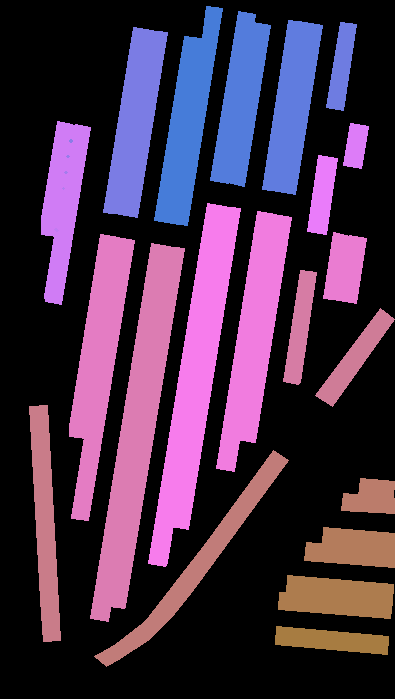parkingspot: (94, 450, 288, 666), (90, 243, 168, 621), (148, 203, 224, 566), (109, 246, 184, 608), (171, 206, 240, 529), (71, 237, 134, 520), (216, 211, 276, 471), (237, 214, 291, 442), (171, 6, 222, 225), (69, 234, 118, 438), (103, 27, 152, 214), (120, 30, 167, 217), (154, 36, 201, 223), (44, 124, 90, 304), (315, 308, 394, 406), (210, 11, 255, 183), (277, 22, 322, 194), (262, 20, 306, 191), (29, 405, 60, 641), (227, 22, 270, 186), (283, 270, 316, 384), (41, 121, 73, 236), (275, 626, 388, 654), (278, 592, 392, 618), (286, 575, 393, 602), (326, 22, 356, 110), (307, 155, 337, 234), (304, 542, 395, 567), (338, 235, 366, 303), (323, 232, 350, 300), (322, 527, 395, 550), (343, 123, 368, 168), (341, 493, 395, 513), (358, 478, 394, 498)
